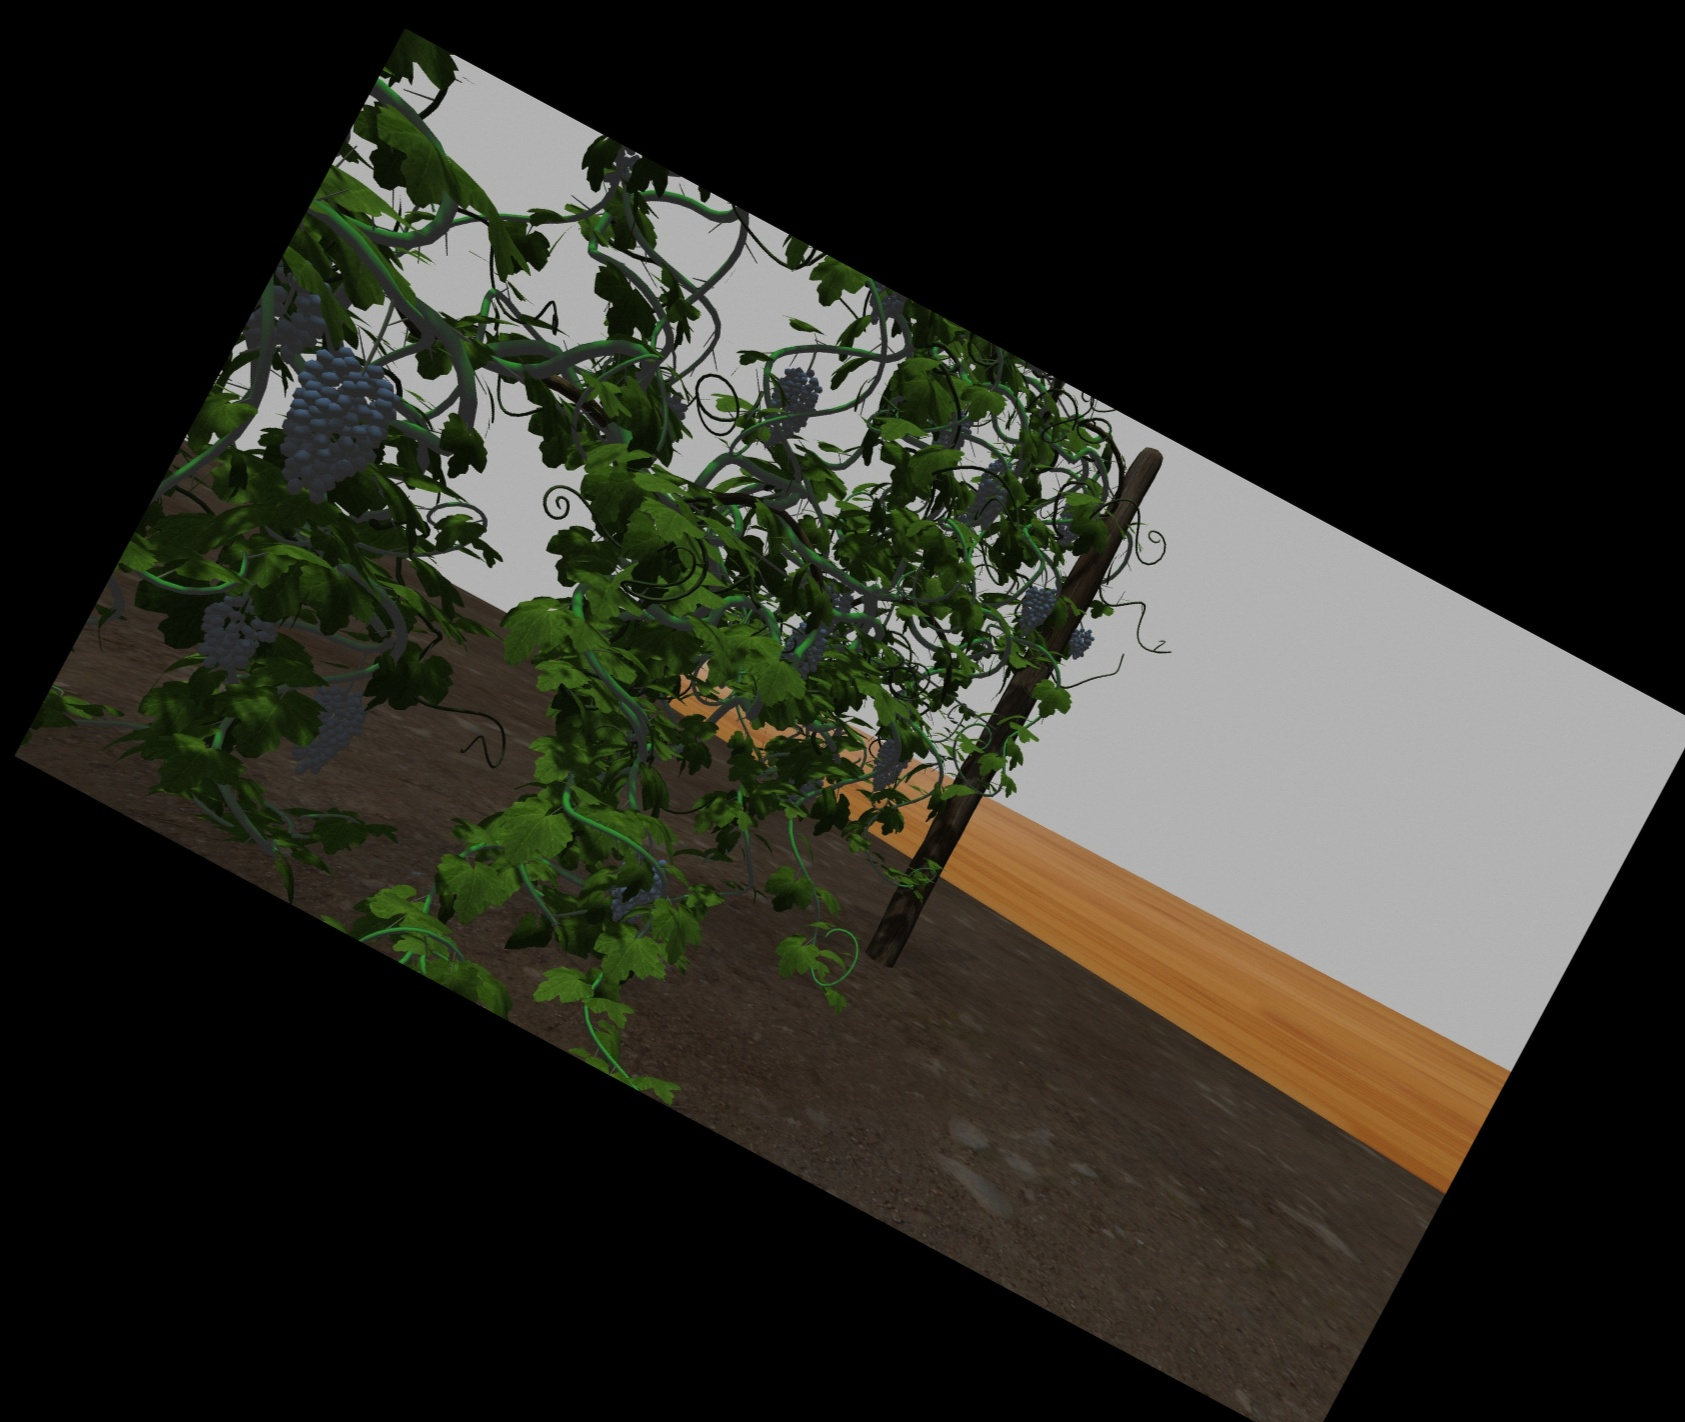grape: (283, 355, 379, 499), (258, 282, 317, 371), (202, 595, 264, 680), (296, 688, 354, 779), (767, 365, 814, 437), (615, 855, 656, 923), (974, 460, 1007, 519), (871, 741, 904, 791), (1019, 584, 1049, 633), (1067, 625, 1091, 657)
